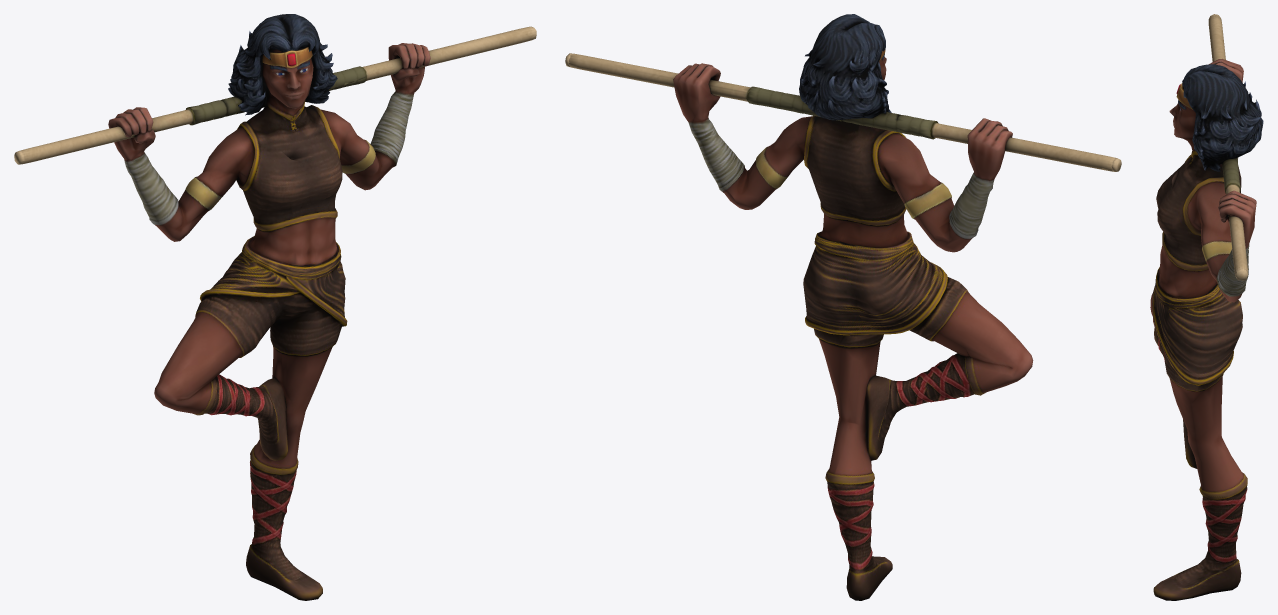
Rendered from MZ4250 - Diana the Acrobat.glb.
3 views of the same model, side by side, from view 1: azimuth 30°, elevation 25°; view 2: azimuth 150°, elevation 25°; view 3: azimuth 270°, elevation 25° (orthographic). The views are drawn at different scales.
Parts seen in each view (by area): view 1: body_low.001, staff_low.001, hair_low.001, diadem_low.001; view 2: body_low.001, hair_low.001, staff_low.001; view 3: body_low.001, hair_low.001, staff_low.001.
Part boxes in pixels (x1=…): body_low.001: x1=108, y1=43, x2=430, y2=600; staff_low.001: x1=14, y1=26, x2=536, y2=164; hair_low.001: x1=228, y1=14, x2=337, y2=115; diadem_low.001: x1=262, y1=47, x2=312, y2=68; body_low.001: x1=673, y1=53, x2=1033, y2=600; hair_low.001: x1=799, y1=14, x2=891, y2=120; staff_low.001: x1=565, y1=53, x2=1121, y2=171; body_low.001: x1=1150, y1=58, x2=1256, y2=600; hair_low.001: x1=1182, y1=64, x2=1263, y2=171; staff_low.001: x1=1208, y1=14, x2=1247, y2=280.
Bounding box in the file's own units: 5.63 × 5.69 × 1.11.
1 material, 1 textured.
